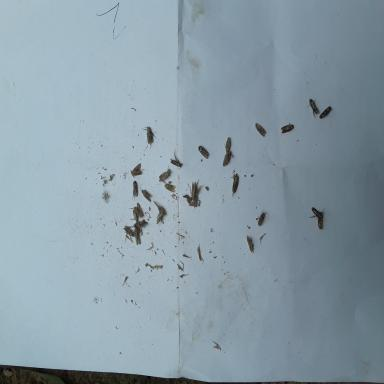pbw: (141, 125, 156, 148), (307, 97, 321, 119), (168, 149, 182, 169), (130, 163, 145, 178), (159, 165, 171, 182), (140, 183, 151, 201), (197, 145, 210, 159), (318, 106, 332, 119), (231, 172, 238, 197), (255, 122, 266, 137), (191, 179, 199, 199), (281, 122, 294, 134), (317, 208, 324, 230), (131, 180, 138, 201), (223, 150, 232, 166), (246, 236, 254, 254), (123, 224, 134, 236), (134, 227, 141, 245), (224, 136, 231, 154), (136, 202, 144, 217), (258, 212, 267, 225), (311, 207, 321, 218), (132, 209, 139, 223), (164, 184, 176, 192), (156, 211, 163, 224), (136, 220, 147, 227), (136, 224, 143, 235)
